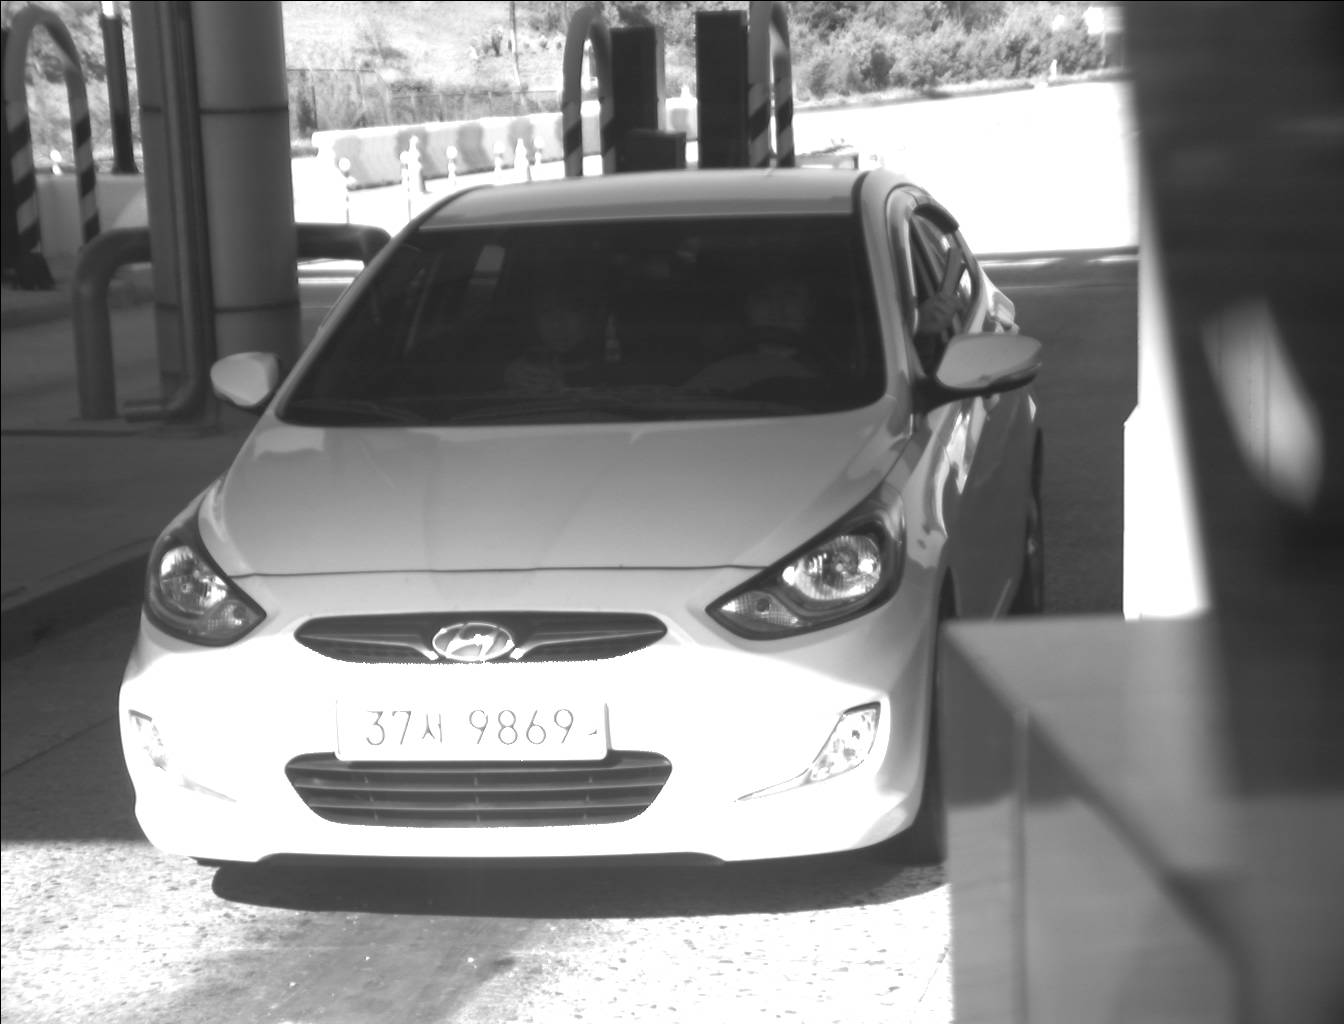car: (109, 164, 1054, 892)
plate: (323, 698, 612, 767)
